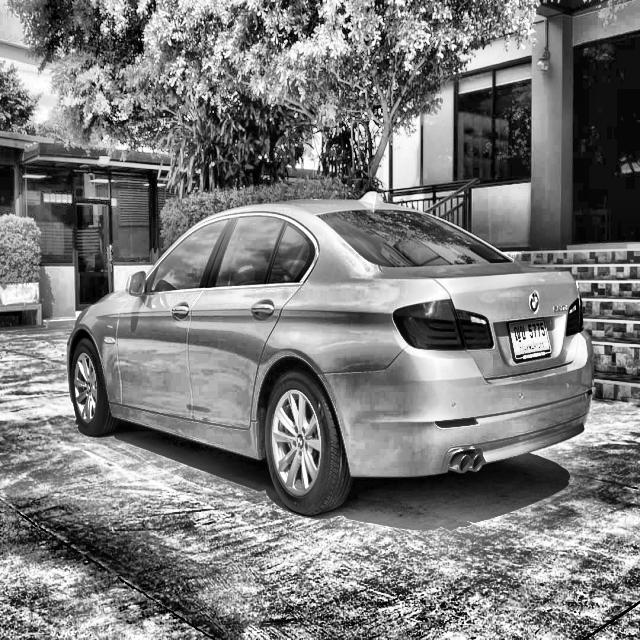license-plate: (506, 316, 552, 363)
